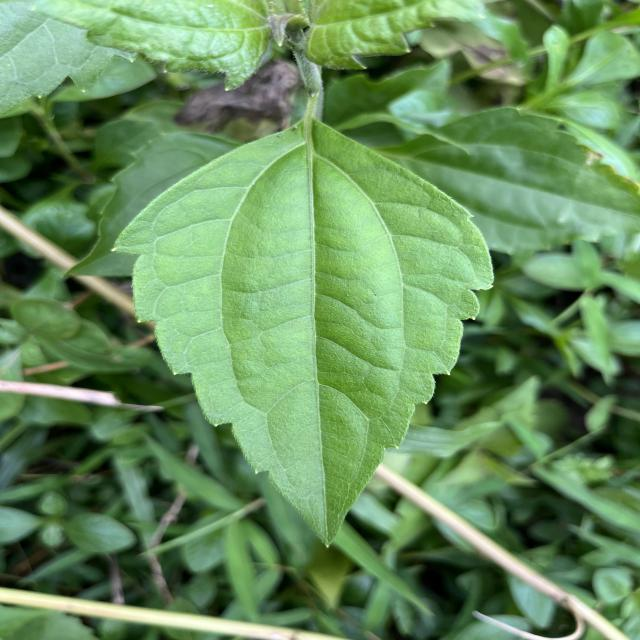Chromolaena odorata: (104, 113, 502, 552)
